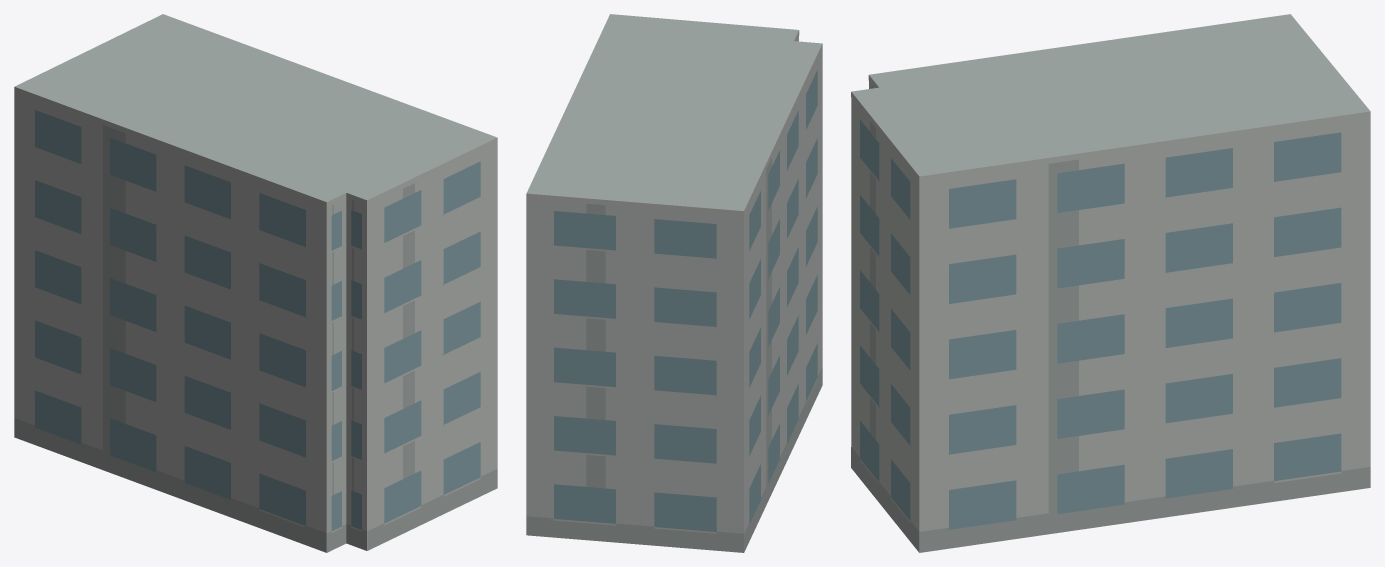
Rendered from survey-upis-32575081.glb.
3 views of the same model, side by side, from view 1: azimuth 30°, elevation 25°; view 2: azimuth 150°, elevation 25°; view 3: azimuth 270°, elevation 25° (orthographic). The views are drawn at different scales.
Parts seen in each view (by area): view 1: survey-upis-32575081.tmp; view 2: survey-upis-32575081.tmp; view 3: survey-upis-32575081.tmp.
Part boxes in pixels (<box>): survey-upis-32575081.tmp: <box>14,14,497,552</box>; survey-upis-32575081.tmp: <box>526,14,822,552</box>; survey-upis-32575081.tmp: <box>851,14,1370,552</box>.
Bounding box in the file's own units: 14.36 × 15.5 × 19.4.
